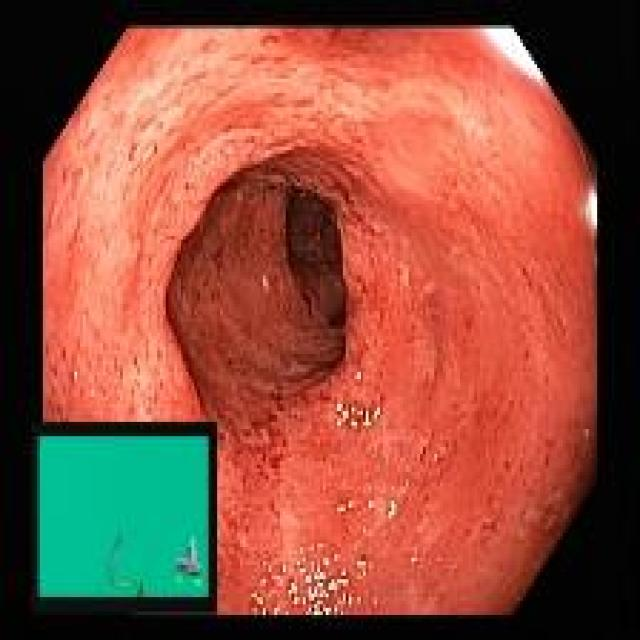ulcerative-colitis: (45, 28, 596, 615)
